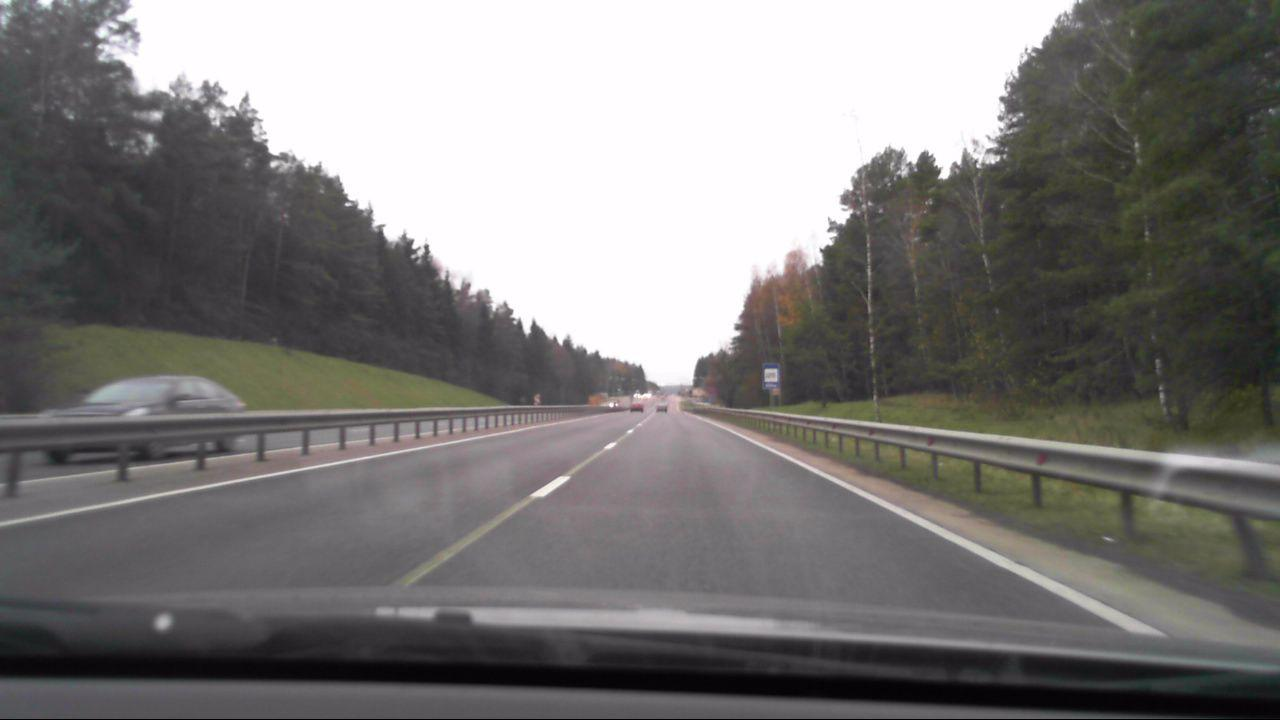7_12: (763, 362, 780, 389)
